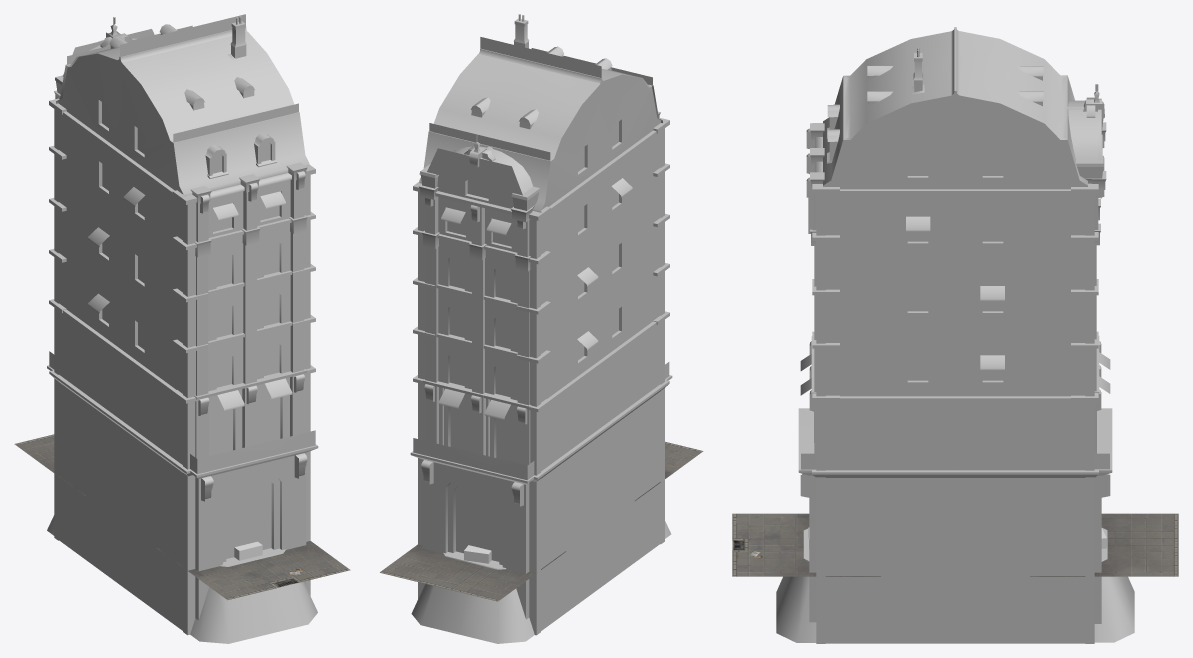
The picture shows the model from 3 angles, left to right: view 1: azimuth 30°, elevation 25°; view 2: azimuth 150°, elevation 25°; view 3: azimuth 270°, elevation 25°; orthographic projection. The views are drawn at different scales.
Parts seen in each view (by area): view 1: _var1_lod0, file_city_center2.002, file_city_center2.003; view 2: _var1_lod0, file_city_center2.003, file_city_center2.002; view 3: _var1_lod0, file_city_center2.003, file_city_center2.002.
Part boxes in pixels (x1,y1,x2,y2): _var1_lod0: [47, 14, 318, 643]; file_city_center2.002: [157, 541, 350, 600]; file_city_center2.003: [14, 434, 85, 495]; _var1_lod0: [410, 14, 672, 643]; file_city_center2.003: [380, 544, 566, 601]; file_city_center2.002: [634, 441, 703, 500]; _var1_lod0: [776, 27, 1134, 643]; file_city_center2.003: [1030, 513, 1178, 576]; file_city_center2.002: [732, 513, 880, 576].
Size of what is drawn, in the model's own units: 1.15 by 4.33 by 3.
